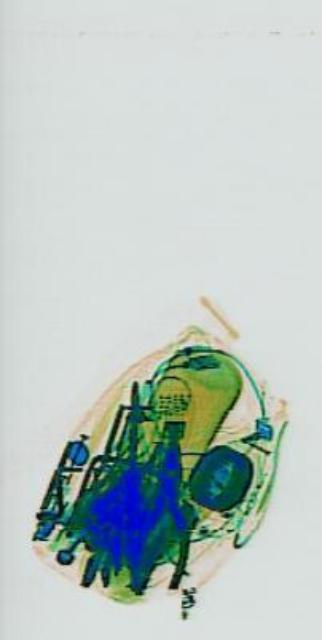Pliers: (122, 428, 198, 608)
